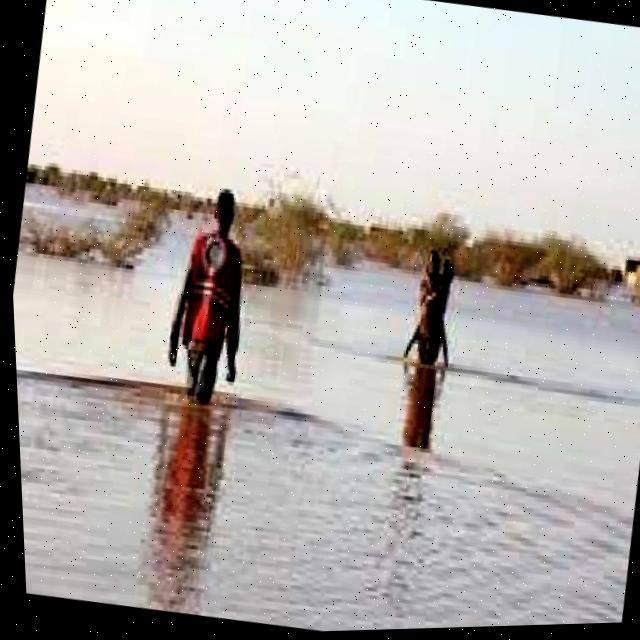civilian: (154, 179, 276, 415)
